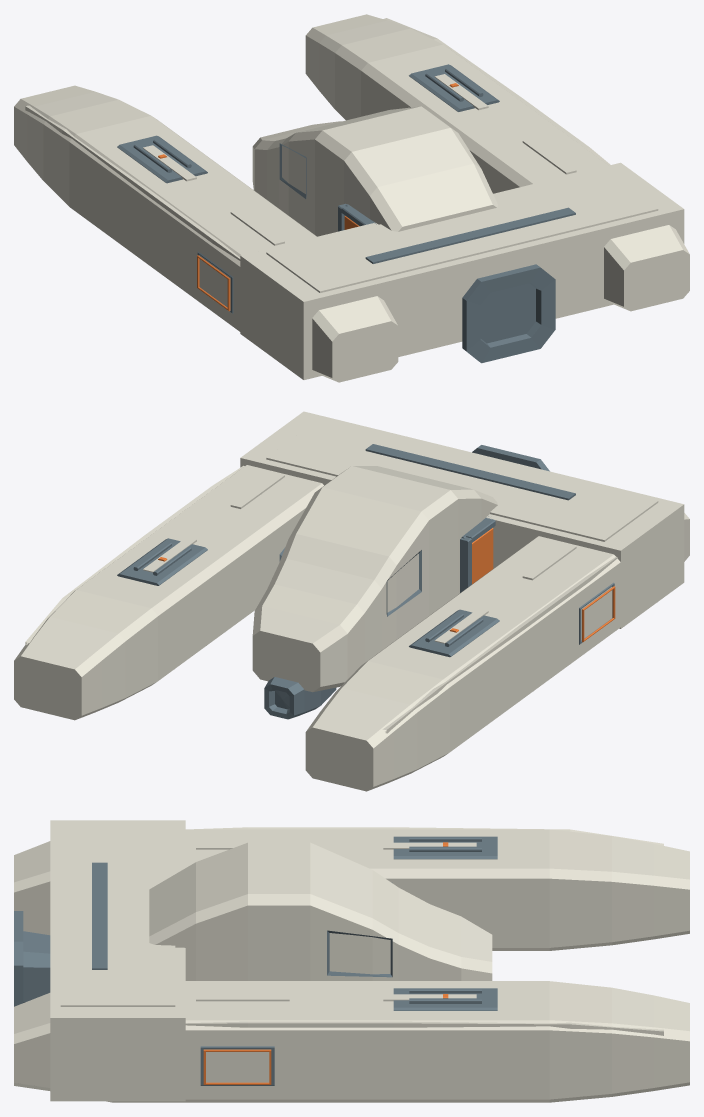
Rendered from SM_FE_TwinforkDisplay.fbx.
The picture shows the model from 3 angles, top to bottom: view 1: azimuth 30°, elevation 25°; view 2: azimuth 150°, elevation 25°; view 3: azimuth 270°, elevation 25°; orthographic projection. The views are drawn at different scales.
Parts seen in each view (by area): view 1: SM_FE_TwinforkDisplay; view 2: SM_FE_TwinforkDisplay; view 3: SM_FE_TwinforkDisplay.
Boxes of the visible parts, bbox=[...] form: SM_FE_TwinforkDisplay: bbox=[14, 14, 689, 382]; SM_FE_TwinforkDisplay: bbox=[14, 411, 689, 791]; SM_FE_TwinforkDisplay: bbox=[14, 820, 689, 1102].
Size of the model in its own units: 914 by 1300 by 358.
